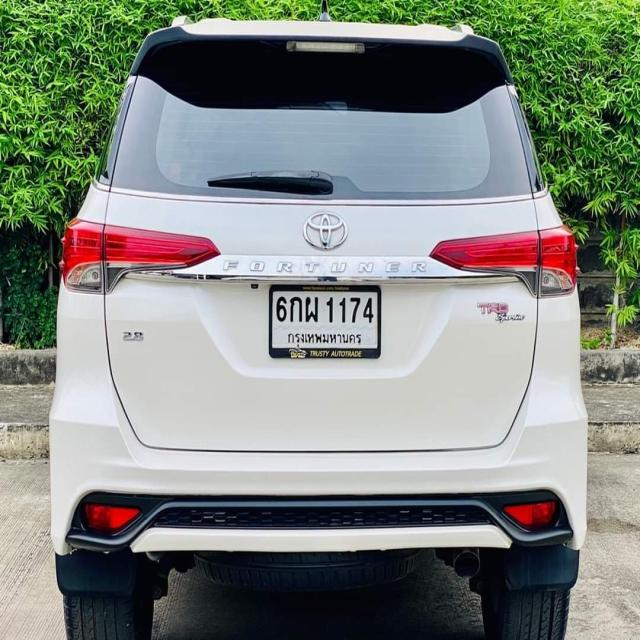license_plate: (265, 278, 384, 363)
